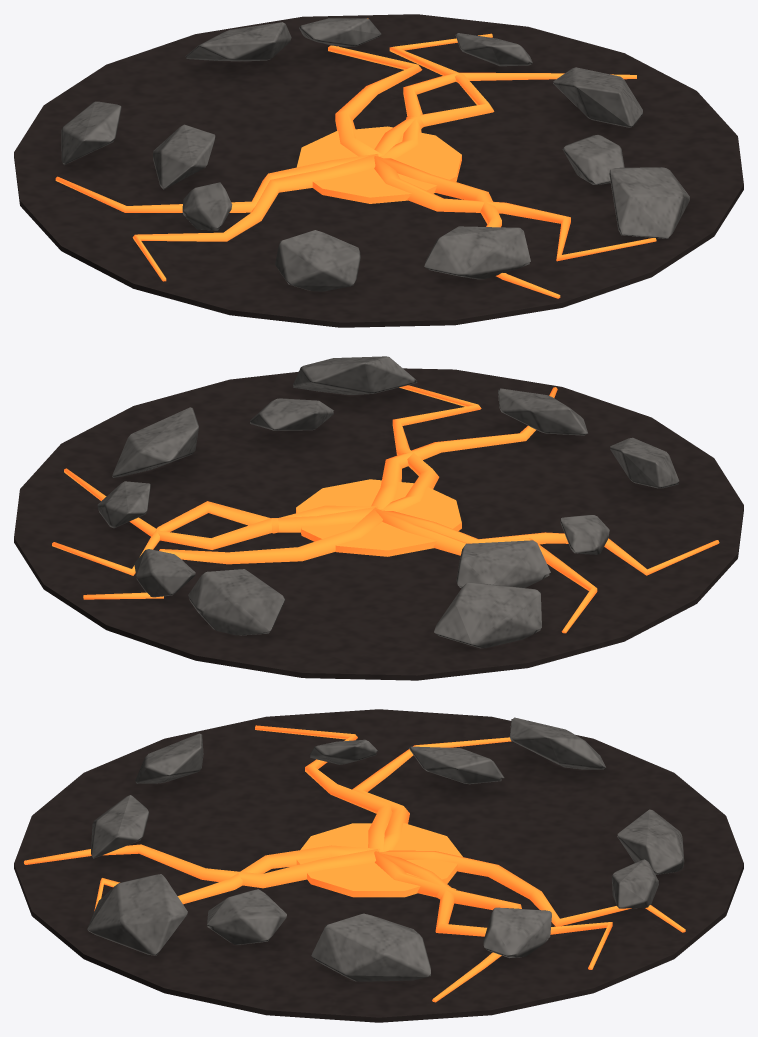
File: crater.glb
The picture shows the model from 3 angles, top to bottom: view 1: azimuth 30°, elevation 25°; view 2: azimuth 150°, elevation 25°; view 3: azimuth 270°, elevation 25°; orthographic projection.
Visible parts, largest first — view 1: Prop_crater; view 2: Prop_crater; view 3: Prop_crater.
Part boxes in pixels (bbox=[...]): Prop_crater: bbox=[14, 14, 743, 327]; Prop_crater: bbox=[14, 356, 743, 680]; Prop_crater: bbox=[14, 709, 743, 1022].
Bounding box in the file's own units: 5.2 × 0.4689 × 5.2.
3 materials, 2 textured.
